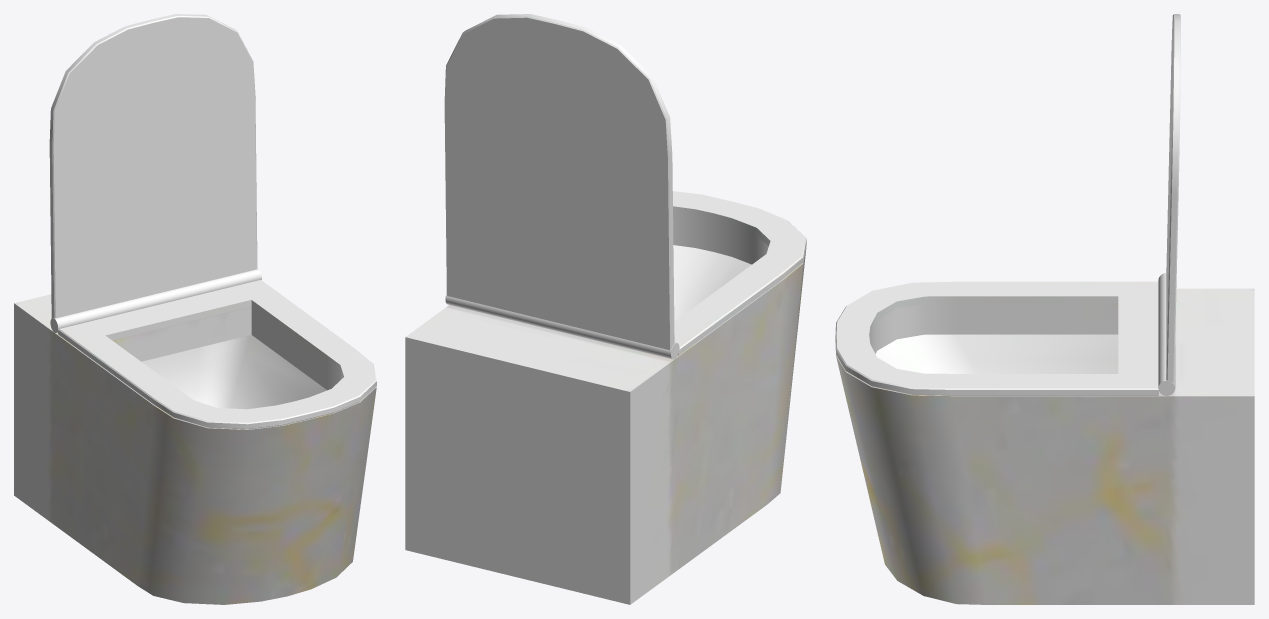
File: toilet-wall-hung.gltf
3 renders of one model, left to right at view 1: azimuth 30°, elevation 25°; view 2: azimuth 150°, elevation 25°; view 3: azimuth 270°, elevation 25°, orthographic. The views are drawn at different scales.
Visible parts, largest first — view 1: Modern_Wall_Hung_Toilet; view 2: Modern_Wall_Hung_Toilet; view 3: Modern_Wall_Hung_Toilet.
Part boxes in pixels (left/top/right/bottom): Modern_Wall_Hung_Toilet: left=14, top=14, right=376, bottom=604; Modern_Wall_Hung_Toilet: left=405, top=14, right=806, bottom=604; Modern_Wall_Hung_Toilet: left=835, top=14, right=1254, bottom=604.
Size of the model in its own units: 0.3276 by 0.7318 by 0.5377.
1 material, 1 textured.
